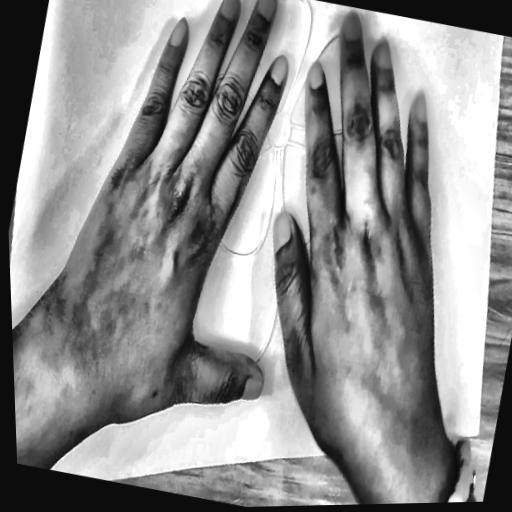bottom_left: (469, 421, 487, 446)
flower: (164, 0, 400, 410)
